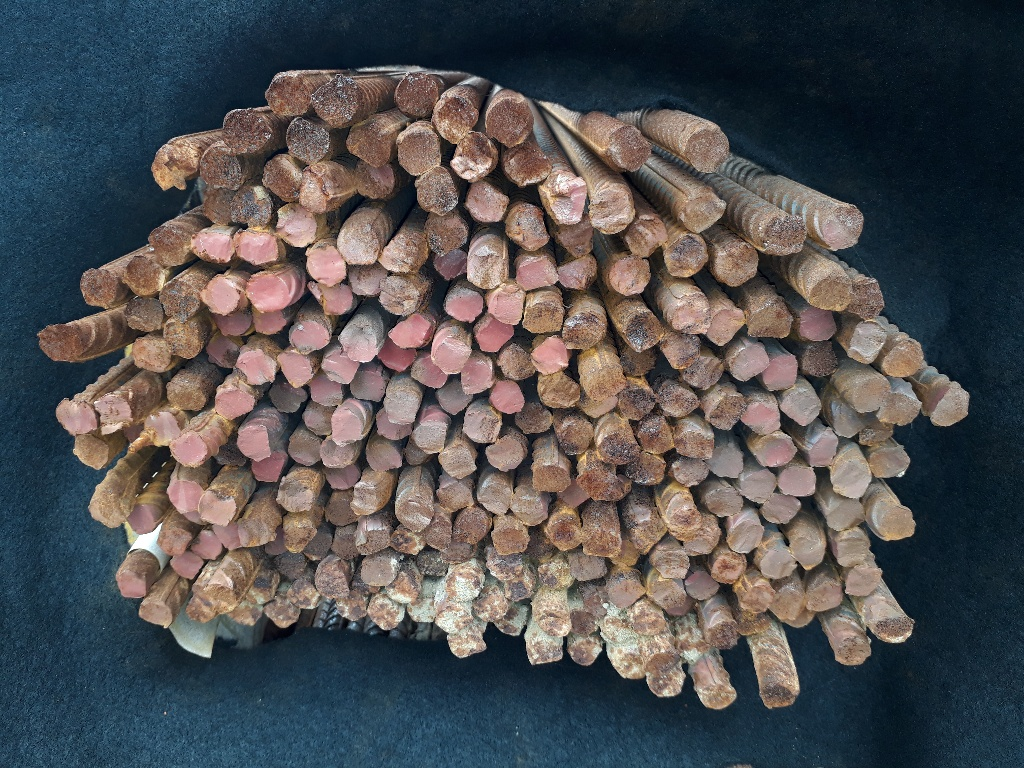dipstick: (604, 121, 651, 174), (313, 76, 358, 126), (486, 100, 533, 147), (590, 185, 636, 233), (153, 145, 198, 191), (543, 177, 587, 224), (398, 129, 442, 175), (285, 119, 329, 163), (224, 111, 270, 152), (419, 168, 459, 215), (714, 242, 757, 285), (267, 73, 309, 117), (456, 134, 497, 179), (395, 74, 438, 116), (436, 96, 476, 141), (508, 203, 547, 249), (679, 193, 726, 231), (301, 162, 336, 213), (686, 129, 728, 171), (347, 123, 387, 167), (276, 204, 316, 248), (832, 454, 870, 500), (505, 149, 551, 186), (37, 325, 84, 361), (468, 182, 509, 223), (666, 234, 707, 275), (748, 299, 792, 337), (826, 204, 860, 253), (381, 238, 428, 273), (339, 225, 379, 266), (306, 244, 345, 286), (149, 228, 192, 266), (266, 156, 302, 201), (931, 386, 970, 427), (425, 215, 468, 252), (201, 149, 241, 188), (765, 214, 804, 254), (564, 313, 606, 350), (246, 275, 289, 311), (232, 187, 270, 227), (162, 281, 200, 321), (234, 230, 278, 264), (518, 255, 559, 291), (628, 218, 666, 256), (673, 296, 710, 335), (675, 423, 714, 460), (466, 252, 506, 288), (850, 323, 886, 363), (850, 278, 885, 319), (754, 434, 796, 468), (125, 258, 163, 295), (611, 258, 650, 294), (811, 273, 851, 308), (488, 284, 522, 325), (657, 385, 698, 419), (308, 283, 351, 315), (625, 312, 661, 350), (81, 269, 116, 308), (125, 297, 164, 332), (133, 337, 172, 372), (434, 336, 469, 374), (885, 341, 923, 376), (577, 470, 617, 503), (380, 280, 417, 315), (731, 344, 768, 379), (560, 257, 599, 290), (215, 387, 256, 418), (461, 410, 502, 441), (584, 367, 625, 398), (781, 391, 822, 422), (357, 163, 393, 198), (204, 278, 238, 315), (368, 595, 401, 633), (799, 308, 837, 341), (443, 292, 482, 324), (56, 400, 95, 432), (474, 320, 514, 351), (684, 356, 724, 387), (837, 527, 868, 567), (710, 309, 745, 344), (240, 350, 274, 386), (199, 491, 235, 525), (853, 376, 889, 410), (533, 337, 566, 374), (878, 394, 920, 423), (166, 380, 205, 411), (540, 377, 579, 408), (558, 221, 593, 255), (166, 323, 199, 359), (500, 344, 533, 380), (640, 419, 673, 455), (663, 335, 699, 368), (709, 396, 745, 429), (343, 325, 375, 362), (95, 398, 132, 430), (194, 232, 233, 262), (881, 507, 915, 541), (831, 401, 865, 435), (278, 354, 313, 387), (513, 492, 548, 525), (560, 421, 593, 456), (691, 515, 719, 556), (525, 302, 562, 333), (872, 446, 909, 477), (91, 496, 130, 525), (486, 439, 525, 468), (599, 434, 638, 463), (456, 510, 490, 543), (447, 568, 482, 600), (291, 324, 328, 354), (803, 342, 836, 375), (620, 387, 654, 419), (729, 520, 763, 552), (672, 457, 707, 488), (766, 355, 797, 390), (392, 316, 428, 346), (380, 343, 416, 373), (582, 527, 618, 557), (845, 566, 881, 596), (829, 500, 866, 529), (491, 528, 529, 556), (323, 352, 356, 384), (74, 436, 107, 468), (237, 426, 269, 459), (209, 337, 244, 367), (360, 556, 395, 586), (627, 455, 664, 483), (742, 469, 774, 501), (762, 547, 794, 579), (397, 496, 430, 527), (669, 508, 700, 541), (741, 583, 774, 614), (145, 415, 179, 445), (745, 402, 779, 432), (270, 383, 305, 412), (646, 581, 685, 607), (366, 443, 402, 471), (516, 406, 552, 434), (779, 468, 816, 495), (331, 410, 362, 442), (442, 446, 474, 477), (475, 588, 506, 620), (479, 483, 510, 515), (462, 361, 493, 393), (634, 519, 666, 550), (706, 617, 737, 649), (710, 447, 742, 478), (439, 382, 472, 412), (837, 635, 870, 665), (762, 496, 800, 522), (173, 436, 207, 465), (279, 483, 313, 512), (349, 267, 385, 294), (700, 683, 736, 710), (810, 433, 837, 469), (775, 587, 807, 617), (793, 537, 823, 569), (809, 580, 841, 610), (874, 617, 914, 641), (548, 521, 581, 550), (327, 492, 355, 526), (614, 650, 645, 680), (216, 312, 253, 337), (570, 554, 607, 579), (204, 192, 232, 225), (432, 251, 465, 279), (288, 437, 321, 465), (316, 570, 349, 598), (157, 527, 191, 554), (540, 564, 574, 591), (648, 673, 686, 697), (356, 530, 391, 556), (414, 358, 444, 388), (169, 479, 199, 509), (415, 423, 445, 453), (494, 381, 523, 412), (204, 585, 236, 613), (439, 482, 471, 510), (568, 639, 601, 666), (607, 581, 644, 605), (532, 464, 566, 490), (707, 490, 741, 516), (386, 396, 415, 426), (116, 571, 147, 599), (657, 550, 688, 578), (140, 600, 172, 627), (448, 633, 485, 656), (238, 520, 272, 545), (436, 607, 470, 632), (311, 379, 341, 407), (630, 611, 665, 635), (763, 683, 798, 707), (715, 554, 742, 585), (686, 574, 717, 601), (646, 651, 680, 675), (388, 572, 416, 601), (353, 373, 383, 400), (287, 582, 317, 609), (305, 405, 331, 436), (252, 455, 283, 481), (170, 554, 203, 578), (321, 443, 354, 467), (528, 639, 561, 663), (621, 351, 654, 375), (499, 607, 527, 635), (253, 312, 287, 335), (284, 522, 314, 548), (540, 611, 570, 637), (128, 504, 153, 535), (266, 600, 297, 625), (567, 611, 597, 636), (679, 633, 704, 663), (377, 415, 408, 439), (490, 554, 521, 578), (580, 398, 617, 418), (230, 602, 262, 625), (860, 423, 892, 446), (247, 577, 274, 604), (193, 533, 221, 559), (419, 550, 447, 576), (608, 620, 636, 646), (428, 522, 453, 551), (504, 575, 533, 600), (738, 613, 770, 635), (307, 532, 332, 560), (353, 484, 377, 513), (326, 468, 358, 489), (394, 529, 423, 552), (340, 592, 365, 618), (277, 552, 305, 575), (187, 598, 213, 620), (560, 485, 586, 507), (334, 533, 355, 560), (215, 527, 239, 550), (407, 600, 434, 620), (620, 540, 636, 565), (404, 444, 423, 464)
